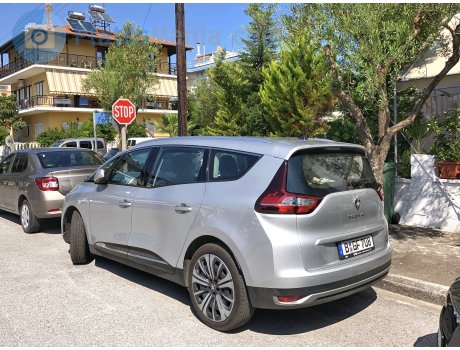License Plates: (340, 231, 374, 248)
